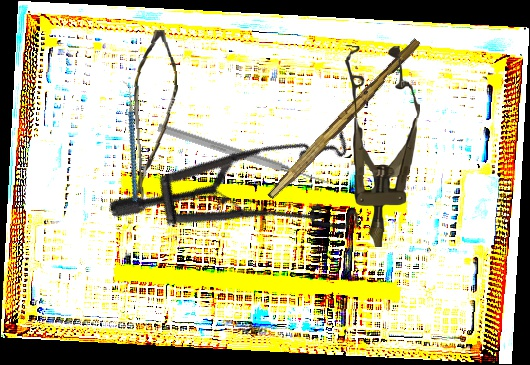Chopper: (90, 80, 169, 202)
Micro Scissor: (122, 28, 186, 201)
Pusher: (156, 121, 330, 189)
Scalpel Handle: (266, 34, 423, 205)
Speculum: (105, 70, 394, 340), (339, 45, 421, 248)
